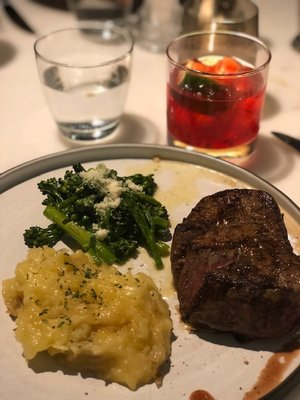curry: (24, 163, 172, 269)
pizza: (165, 29, 272, 158), (33, 26, 134, 144)
sandwich: (271, 131, 300, 154)
